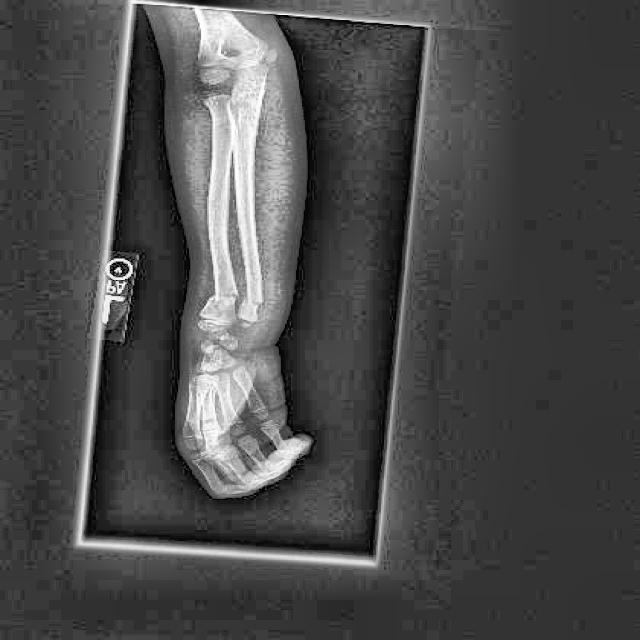forearm fracture: (201, 281, 244, 306), (237, 293, 271, 315)
